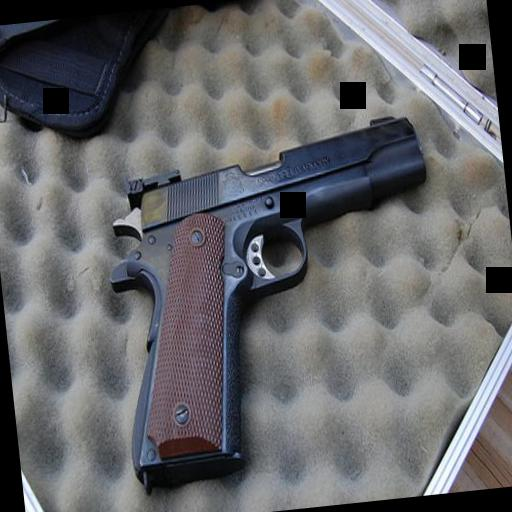Handgun: (90, 106, 454, 492)
